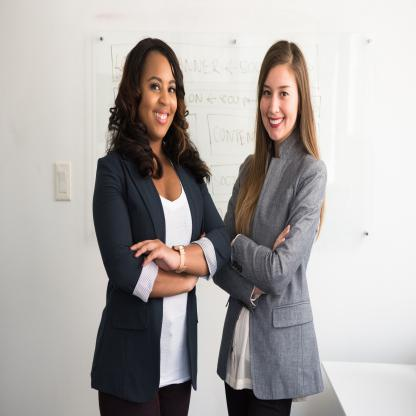Eye: (278, 86, 293, 100), (150, 82, 161, 94), (262, 87, 272, 100), (169, 83, 176, 95)
Mouth: (153, 106, 172, 126), (269, 116, 286, 128)
Nose: (269, 94, 280, 115), (159, 89, 170, 109)
